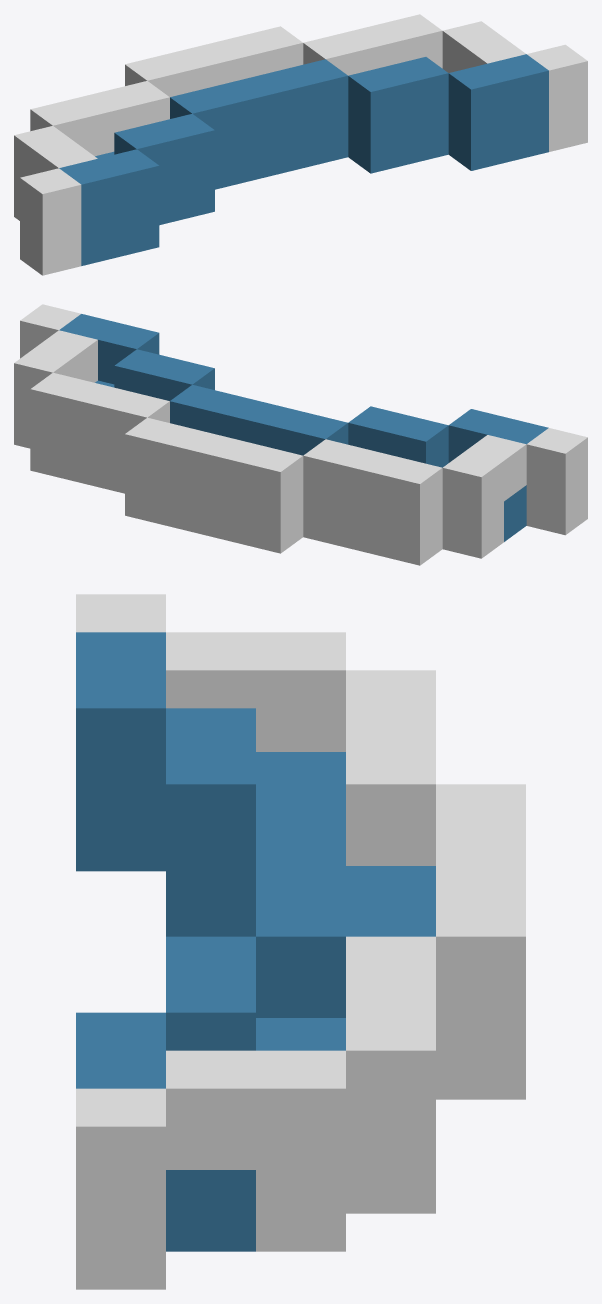
File: волна4.obj
3 views of the same model, one above another, from view 1: azimuth 30°, elevation 25°; view 2: azimuth 150°, elevation 25°; view 3: azimuth 270°, elevation 25° (orthographic). The views are drawn at different scales.
Size of the model in its own units: 1.4 by 0.2 by 0.5.
1 material, 1 textured.
